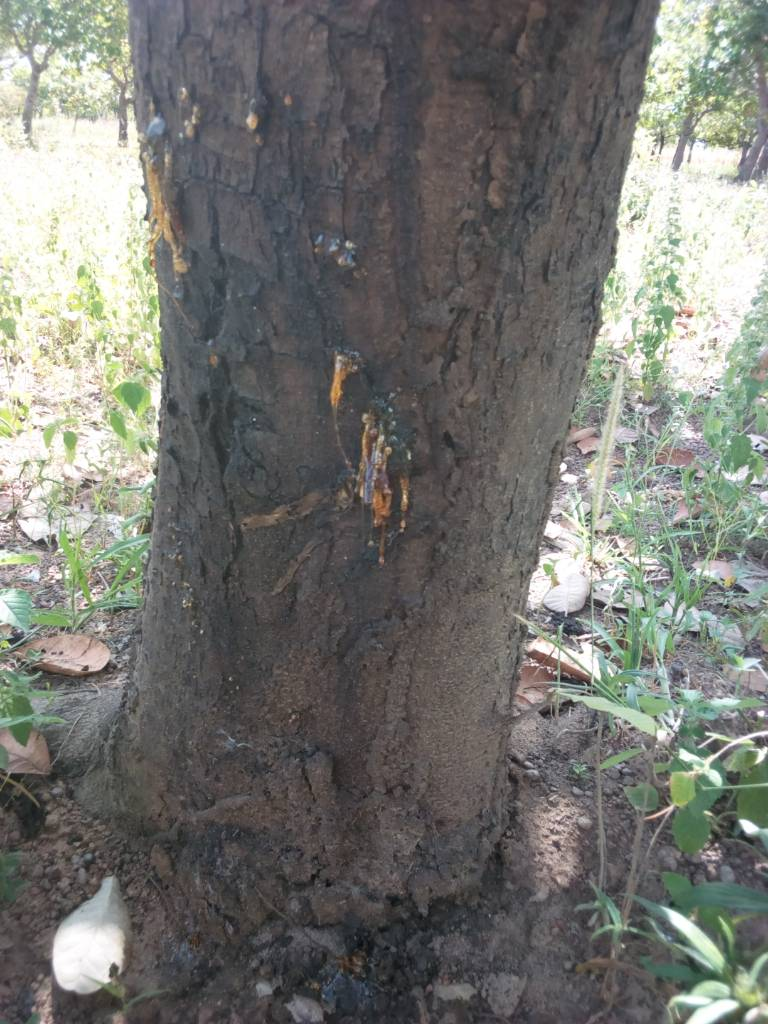Termites: (143, 135, 299, 774), (324, 422, 518, 896)
